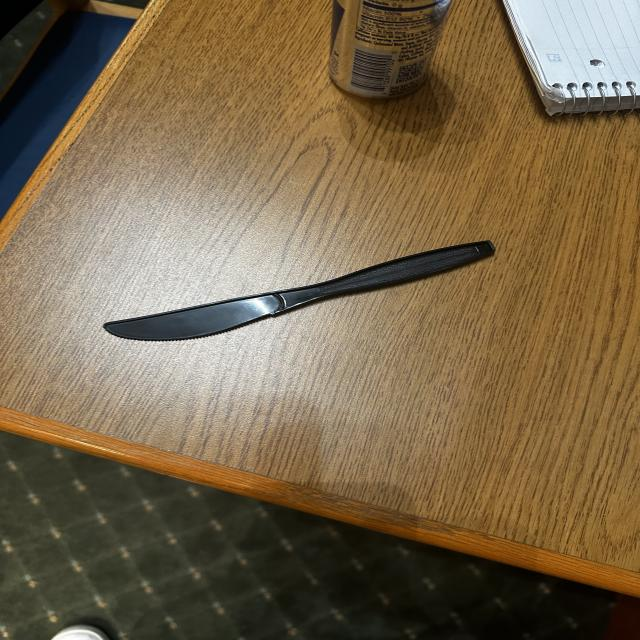knife: (84, 206, 521, 363)
